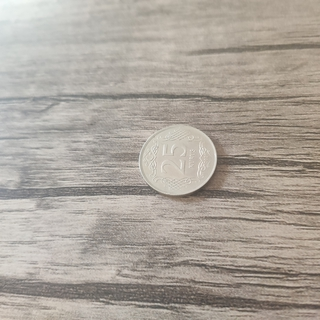25KURUS: (137, 122, 218, 198)
